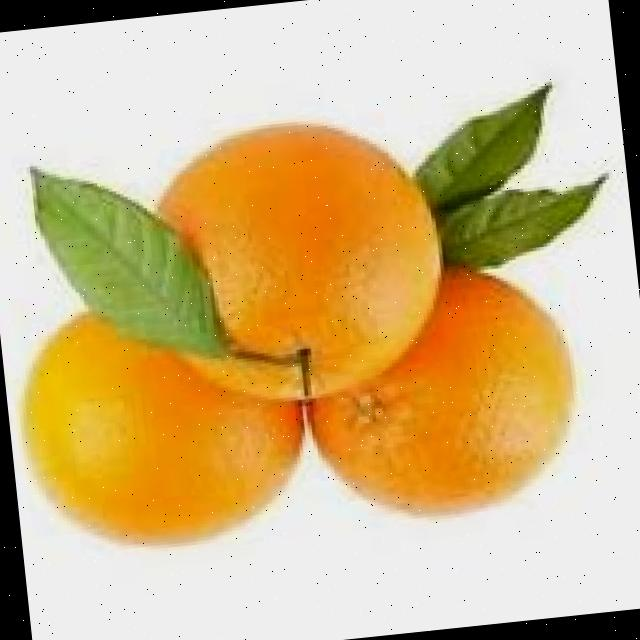Ripe: (142, 110, 460, 421), (309, 253, 592, 538), (14, 330, 316, 569)
